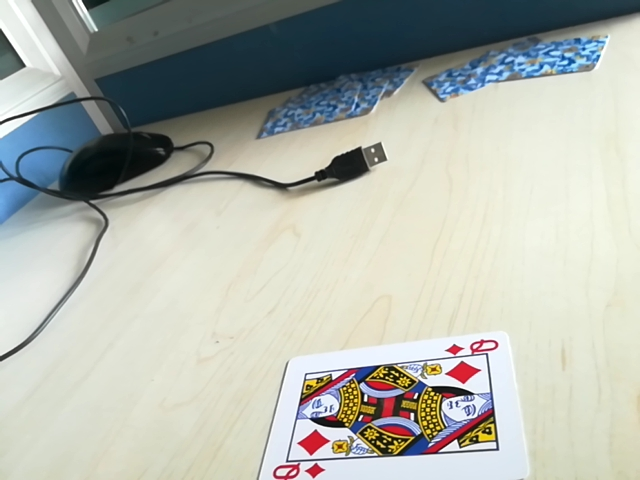fk q: (444, 335, 501, 361), (270, 455, 330, 477)
